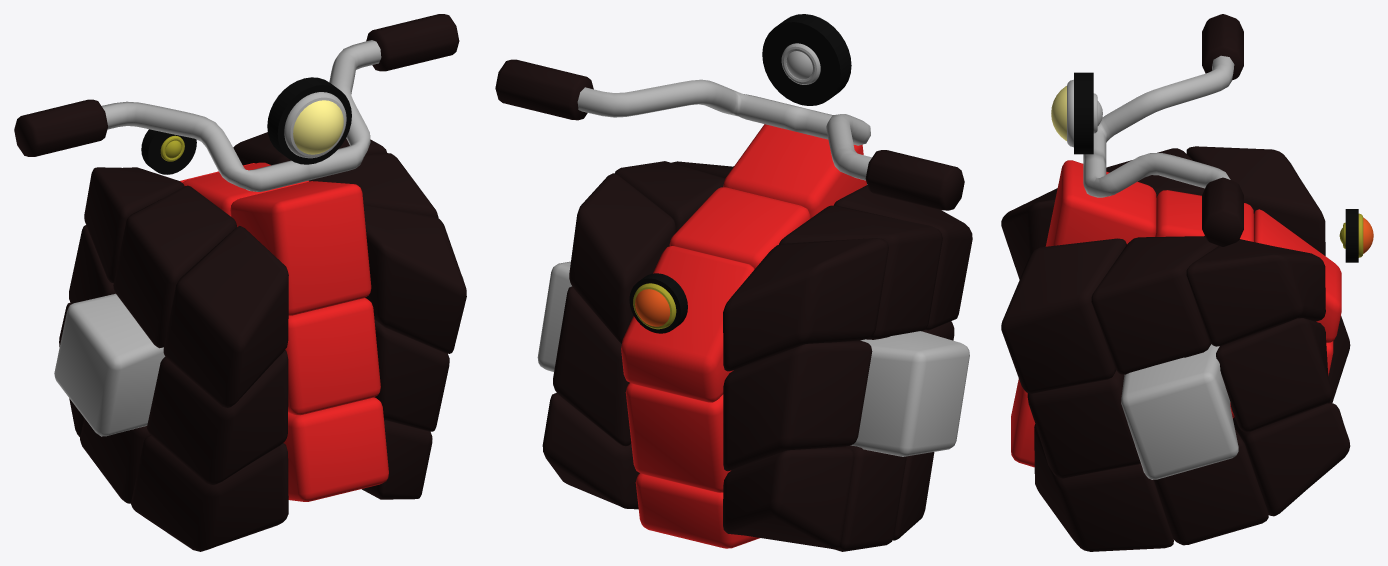
Rendered from Bike.fbx.
3 views of the same model, side by side, from view 1: azimuth 30°, elevation 25°; view 2: azimuth 150°, elevation 25°; view 3: azimuth 270°, elevation 25° (orthographic). The views are drawn at different scales.
Parts seen in each view (by area): view 1: Hendlebar, Cube.026, Cube.017, Cube.020, Cube.023, Cube.025, Cube.013, Cube.014, Cube.016, Cube.015, Cube.022, Light_F (+8 smaller); view 2: Hendlebar, Cube.024, Cube.021, Cube.013, Cube.008, Cube.018, Cube.011, Cube.014, Cube.007, Cube.010, Cube.017, Cube.002 (+9 smaller); view 3: Cube.025, Cube.005, Hendlebar, Cube.004, Cube.011, Cube.010, Cube.019, Cube.022, Cube.009, Cube.003, Cube.024, Cube.017 (+8 smaller).
Boxes of the visible parts, x1,y1,x2,y2 form: Hendlebar: (14,14,459,191); Cube.026: (163,226,288,407); Cube.017: (230,181,371,315); Cube.020: (131,435,288,551); Cube.023: (147,350,288,485); Cube.025: (363,204,466,353); Cube.013: (54,293,165,436); Cube.014: (113,185,236,348); Cube.016: (285,298,380,415); Cube.015: (283,397,388,501); Cube.022: (374,319,449,431); Light_F: (267,77,351,164); Hendlebar: (495,59,964,210); Cube.024: (723,238,888,371); Cube.021: (723,340,872,471); Cube.013: (850,331,969,456); Cube.008: (621,246,754,402); Cube.018: (723,446,854,549); Cube.011: (569,173,675,343); Cube.014: (779,205,942,339); Cube.007: (625,383,730,492); Cube.010: (553,286,631,446); Cube.017: (723,124,866,217); Cube.002: (669,187,810,269); Cube.025: (1001,238,1126,393); Cube.005: (1091,236,1218,374); Hendlebar: (1083,14,1243,246); Cube.004: (1121,344,1238,479); Cube.011: (1186,239,1325,346); Cube.010: (1216,318,1332,431); Cube.019: (1034,424,1173,551); Cube.022: (1027,370,1140,478); Cube.009: (1233,403,1350,516); Cube.003: (1154,428,1268,545); Cube.024: (1186,146,1325,255); Cube.017: (1045,160,1156,246).
Size of the model in its own units: 473 by 472 by 376.
